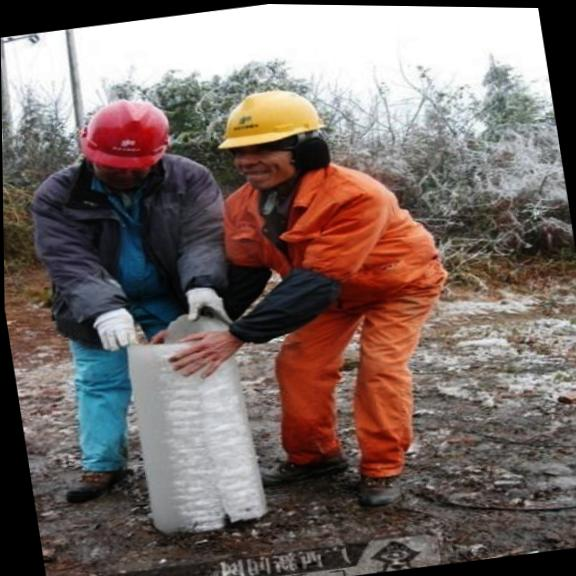no_safety_vest: (28, 151, 222, 311)
safety_vest: (221, 152, 418, 312)
